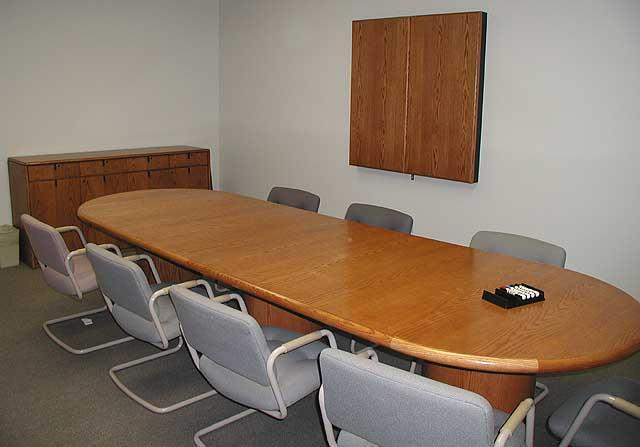Armario: (19, 159, 216, 260)
